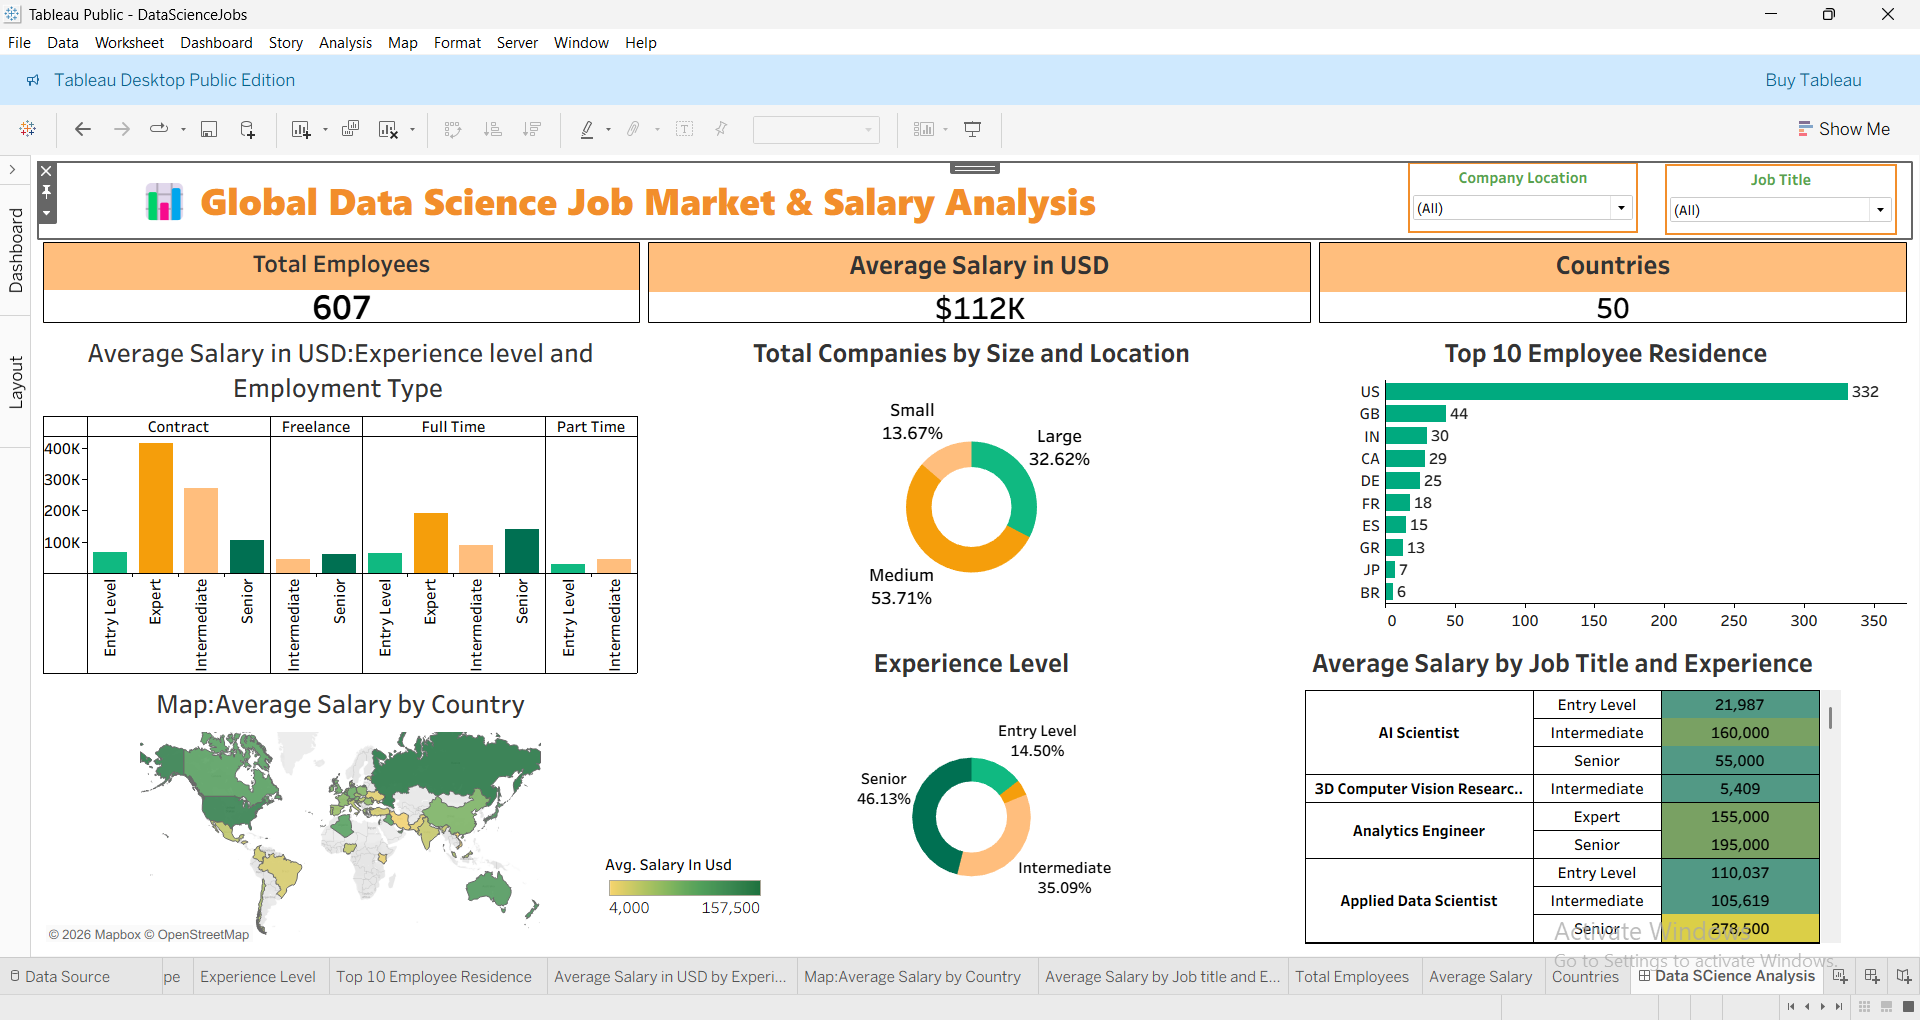

What the dashboard file says about the page in this screenshot:
{"tool":"tableau","page":{"name":"Data SCience Analysis","canvas":[1000,1000],"units":"permille","ordinal":1},"visuals":[{"type":"filter","title":"Average Salary in USD by Experience level and Employment Type ","param":"[federated.0fnnrji0wa4xuf10lf9yf109d79g].[none:company_location:nk]","box":[729.5,8.7,121.9,88.6]},{"type":"title","box":[8.6,10.1,982.7,94.8]},{"type":"filter","title":"Average Salary in USD by Experience level and Employment Type ","param":"[federated.0fnnrji0wa4xuf10lf9yf109d79g].[none:job_title:nk]","box":[865.4,11.2,123.1,88.6]},{"type":"worksheet","title":"Total Employees","mark":"Automatic","box":[8.6,104.9,317.7,110.9]},{"type":"worksheet","title":"Average Salary","mark":"Automatic","box":[326.4,104.9,352.1,110.9]},{"type":"worksheet","title":"Countries","mark":"Automatic","box":[678.4,104.9,312.9,110.9]},{"type":"worksheet","title":"Total Companies by Size and Location","mark":"Pie","rows":["Calculation_0439265303076865","Calculation_0439265303076865"],"box":[323.6,214.7,333.1,387.6]},{"type":"worksheet","title":"Average Salary in USD by Experience level and Employment Type ","mark":"Automatic","rows":["salary_in_usd"],"cols":["employment_type","experience_level"],"box":[8.6,215.8,646.7,443.7]},{"type":"worksheet","title":"Top 10 Employee Residence","mark":"Automatic","rows":["employee_residence"],"cols":["employee_residence"],"box":[655.4,215.8,336,387]},{"type":"worksheet","title":"Experience Level","mark":"Pie","rows":["Calculation_0439265303076865","Calculation_0439265303076865"],"box":[323.6,602.4,333.1,387.6]},{"type":"worksheet","title":"Average Sale by Job title and Experience","mark":"Square","rows":["job_title","experience_level"],"box":[655.4,602.9,336,387]},{"type":"worksheet","title":"Map:Average Salary by Country","mark":"Automatic","box":[8.6,659.6,646.7,330.3]},{"type":"legend","title":"Map:Average Salary by Country","param":"[federated.0fnnrji0wa4xuf10lf9yf109d79g].[avg:salary_in_usd:qk]","box":[303.8,872.7,84.9,109.9]}]}

Visuals, with their boxes on the dashboard's canvas, which has no fixed pixel size, in thousandths of its width and height (x1, y1, x2, y2). These are canvas units, not pixel positions in the 1920x1020 screenshot, which may show the page scaled, cropped or inside an application window:
"Average Salary in USD by Experience level and Employment Type " filter: [x1=730, y1=9, x2=851, y2=97]
title: [x1=9, y1=10, x2=991, y2=105]
"Average Salary in USD by Experience level and Employment Type " filter: [x1=865, y1=11, x2=988, y2=100]
"Total Employees" worksheet: [x1=9, y1=105, x2=326, y2=216]
"Average Salary" worksheet: [x1=326, y1=105, x2=678, y2=216]
"Countries" worksheet: [x1=678, y1=105, x2=991, y2=216]
"Total Companies by Size and Location" worksheet (Pie marks): [x1=324, y1=215, x2=657, y2=602]
"Average Salary in USD by Experience level and Employment Type " worksheet: [x1=9, y1=216, x2=655, y2=660]
"Top 10 Employee Residence" worksheet: [x1=655, y1=216, x2=991, y2=603]
"Experience Level" worksheet (Pie marks): [x1=324, y1=602, x2=657, y2=990]
"Average Sale by Job title and Experience" worksheet (Square marks): [x1=655, y1=603, x2=991, y2=990]
"Map:Average Salary by Country" worksheet: [x1=9, y1=660, x2=655, y2=990]
"Map:Average Salary by Country" legend: [x1=304, y1=873, x2=389, y2=983]
